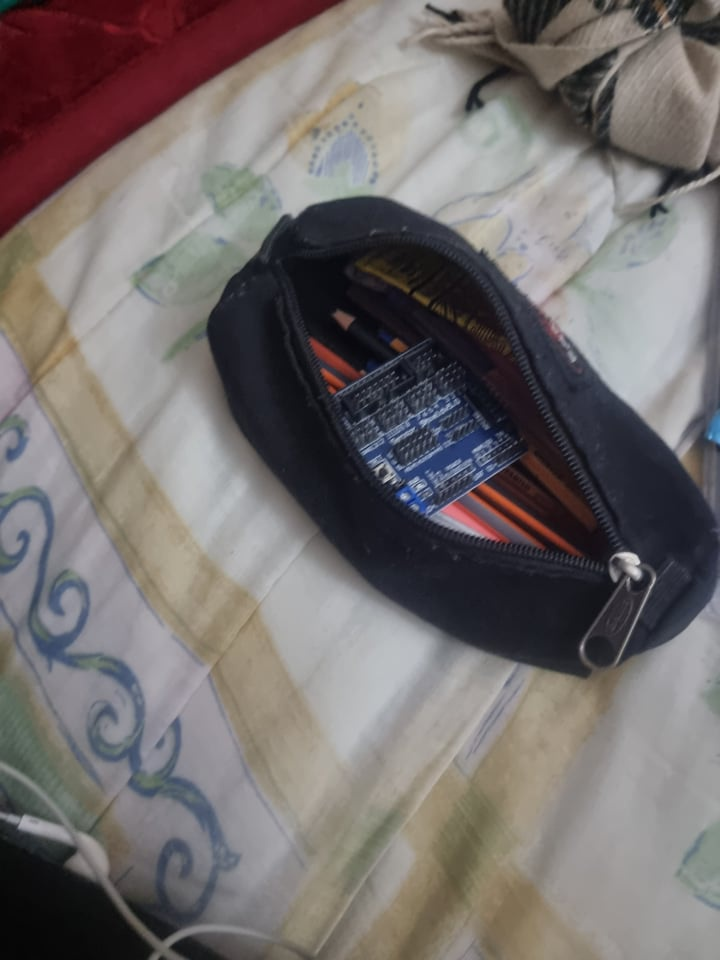5V EXPANSION: (330, 338, 528, 516)
